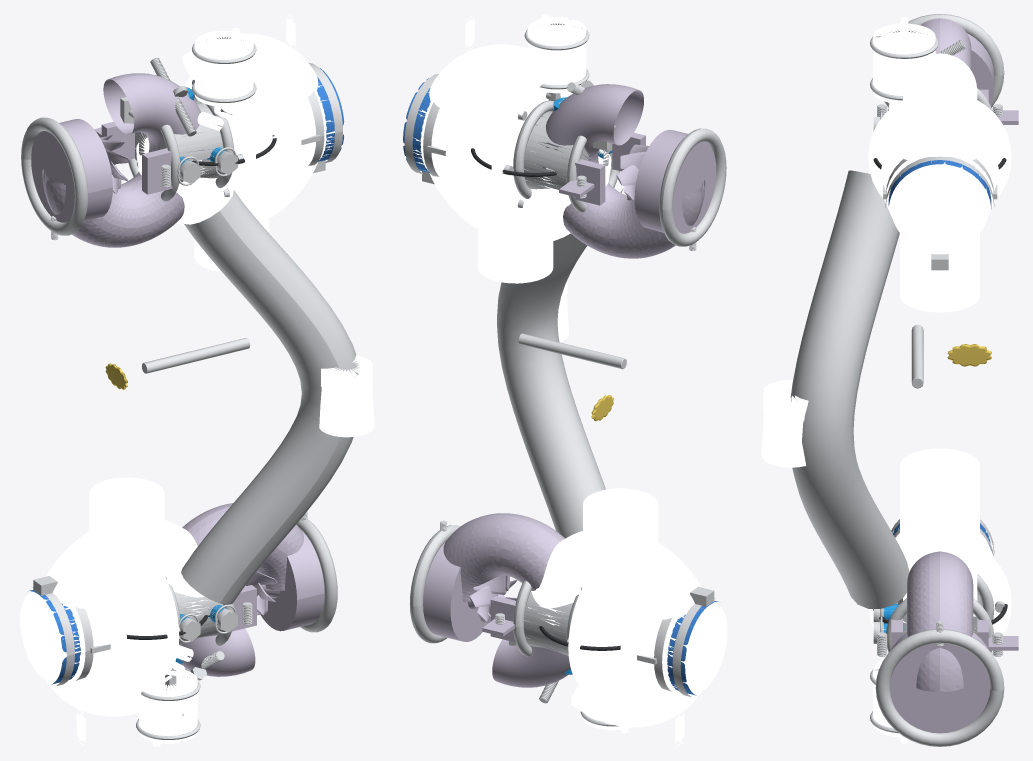
File: turbocharger.glb
3 renders of one model, left to right at view 1: azimuth 30°, elevation 25°; view 2: azimuth 150°, elevation 25°; view 3: azimuth 270°, elevation 25°, orthographic. The views are drawn at different scales.
Visible parts, largest first — view 1: Anti_Surge_Ported_Air_Inlet_Snout, Adjustable_Wastegate_Linkage_Rod, Divided_TwinScroll_Turbine_Volute, DualPort_Wastegate_Canister, Inconel_Foil_Turbine_Thermal_Blanket, CHRA_Bearing_Center_Housing, AN4_Hex_Nut_Body, Silicone_Inlet_Coupler_Boot, GEO_Turbo_ActuatorRod; view 2: Anti_Surge_Ported_Air_Inlet_Snout, Adjustable_Wastegate_Linkage_Rod, Divided_TwinScroll_Turbine_Volute, Inconel_Foil_Turbine_Thermal_Blanket, CHRA_Bearing_Center_Housing, DualPort_Wastegate_Canister, AN4_Hex_Nut_Body, Silicone_Inlet_Coupler_Boot, GEO_Turbo_ActuatorRod, Backplate_Viton_O_Ring; view 3: Adjustable_Wastegate_Linkage_Rod, Anti_Surge_Ported_Air_Inlet_Snout, Divided_TwinScroll_Turbine_Volute, Inconel_Foil_Turbine_Thermal_Blanket, DualPort_Wastegate_Canister, GEO_Turbo_CompressorBlades, GEO_Turbo_ActuatorRod, Silicone_Inlet_Coupler_Boot, AN4_Hex_Nut_Body.
Part boxes in pixels (x1,y1,x2,y2): Anti_Surge_Ported_Air_Inlet_Snout: (20, 33, 374, 716); Adjustable_Wastegate_Linkage_Rod: (21, 35, 359, 739); Divided_TwinScroll_Turbine_Volute: (31, 73, 324, 676); DualPort_Wastegate_Canister: (139, 30, 373, 743); Inconel_Foil_Turbine_Thermal_Blanket: (42, 131, 303, 627); CHRA_Bearing_Center_Housing: (135, 100, 223, 644); AN4_Hex_Nut_Body: (76, 14, 295, 746); Silicone_Inlet_Coupler_Boot: (29, 68, 344, 684); GEO_Turbo_ActuatorRod: (142, 338, 250, 373); Anti_Surge_Ported_Air_Inlet_Snout: (413, 44, 727, 727); Adjustable_Wastegate_Linkage_Rod: (404, 22, 726, 726); Divided_TwinScroll_Turbine_Volute: (423, 84, 716, 687); Inconel_Foil_Turbine_Thermal_Blanket: (443, 142, 705, 635); CHRA_Bearing_Center_Housing: (524, 111, 612, 655); DualPort_Wastegate_Canister: (527, 17, 630, 730); AN4_Hex_Nut_Body: (465, 14, 684, 746); Silicone_Inlet_Coupler_Boot: (403, 78, 718, 695); GEO_Turbo_ActuatorRod: (518, 333, 626, 369); Backplate_Viton_O_Ring: (471, 148, 620, 650); Adjustable_Wastegate_Linkage_Rod: (790, 14, 1004, 746); Anti_Surge_Ported_Air_Inlet_Snout: (761, 53, 1011, 649); Divided_TwinScroll_Turbine_Volute: (888, 18, 1018, 733); Inconel_Foil_Turbine_Thermal_Blanket: (907, 551, 973, 691); DualPort_Wastegate_Canister: (763, 23, 935, 737); GEO_Turbo_CompressorBlades: (947, 344, 991, 366); GEO_Turbo_ActuatorRod: (911, 324, 923, 388); Silicone_Inlet_Coupler_Boot: (888, 160, 991, 550); AN4_Hex_Nut_Body: (900, 17, 932, 743).
Size of the model in its own units: 0.2362 by 0.5482 by 0.1728.
